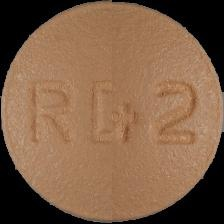55111-342: (0, 0, 224, 224)
